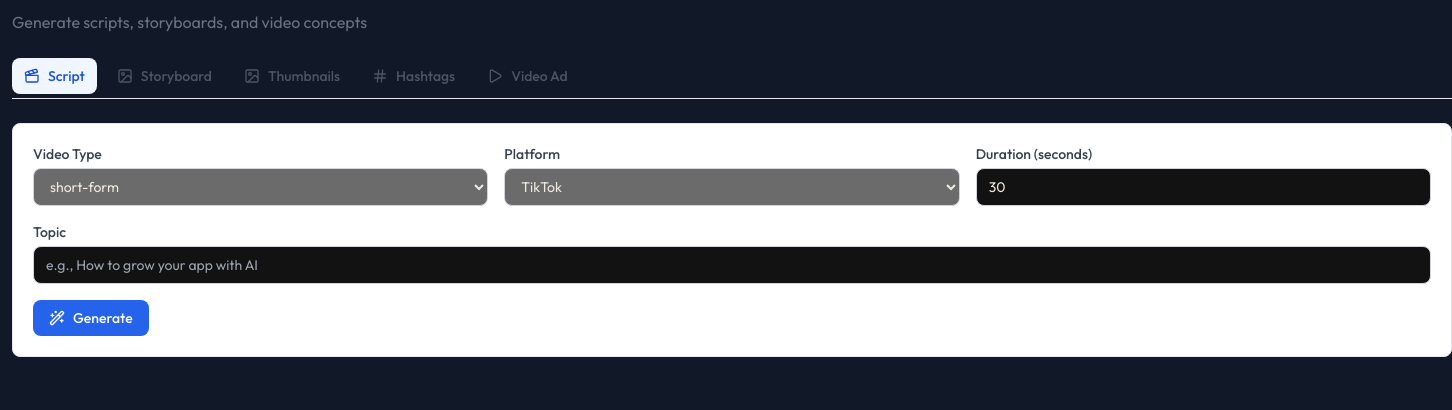
Test: visible studio failures › shows actionable HTTP 429 errors without private server details
Type "Keep my video topic" into the field with placeholder "e.g., How to grow your app with AI" at point(732, 265), box [33,246,1431,284]
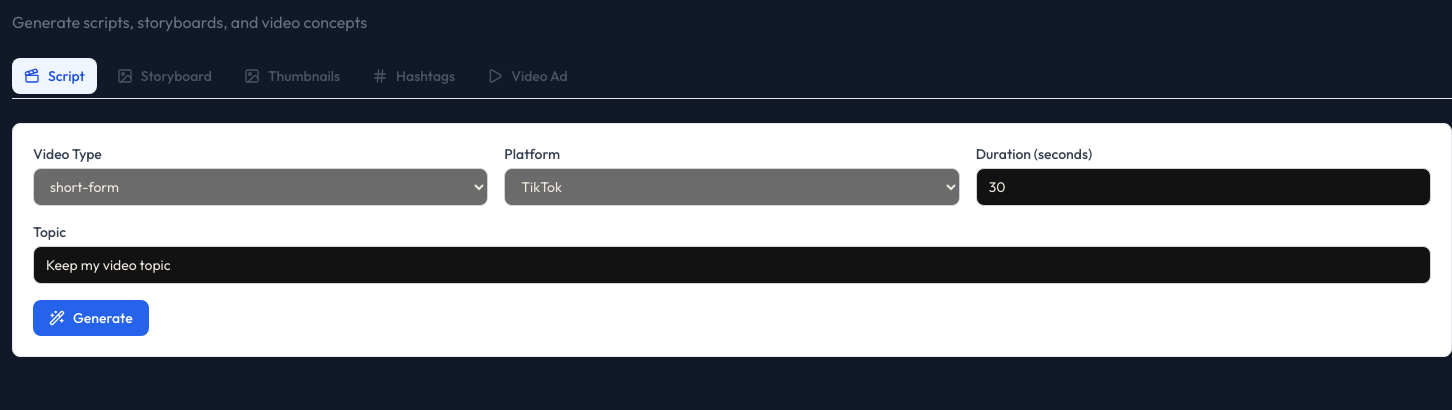
Click the button "Generate" at point(91, 318), box [33,300,149,336]
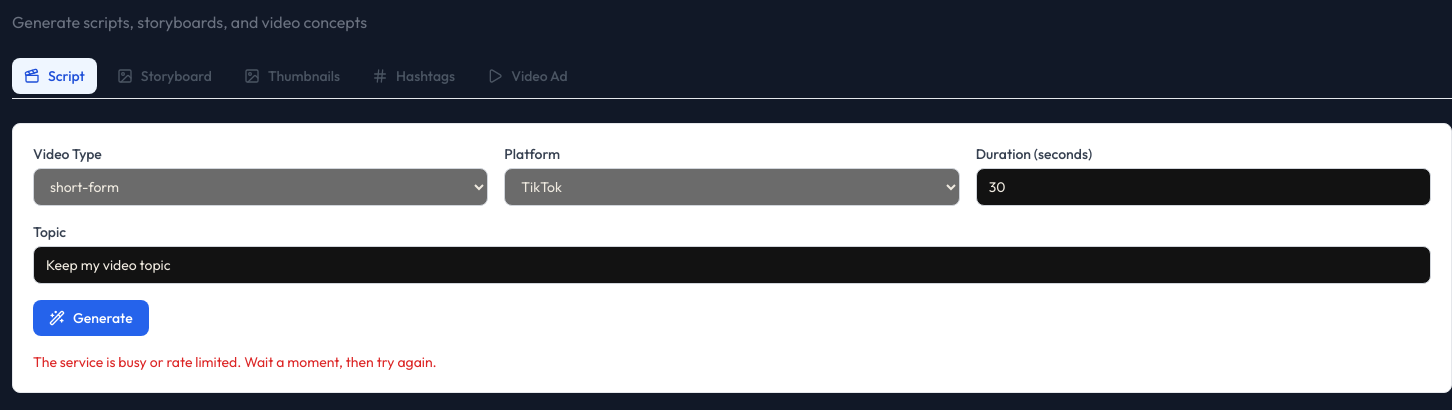
Expected: the message shows "Wait a moment", [33,353,437,371]
